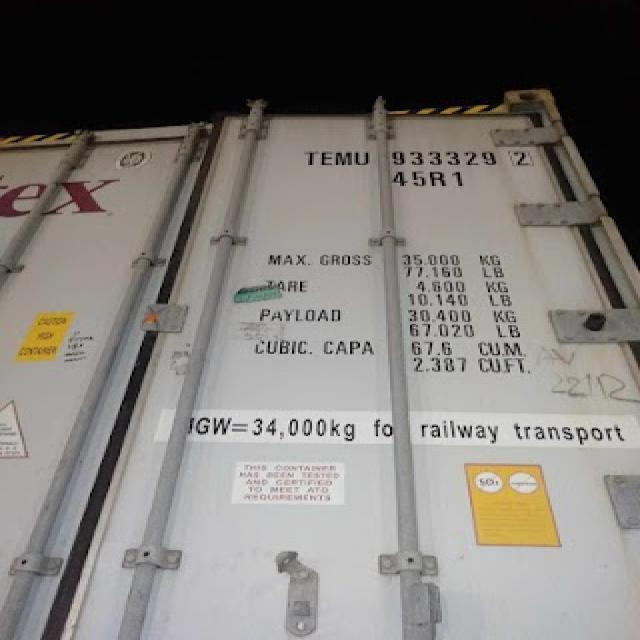ISO: (396, 169, 463, 189)
container_number: (308, 142, 526, 168)
